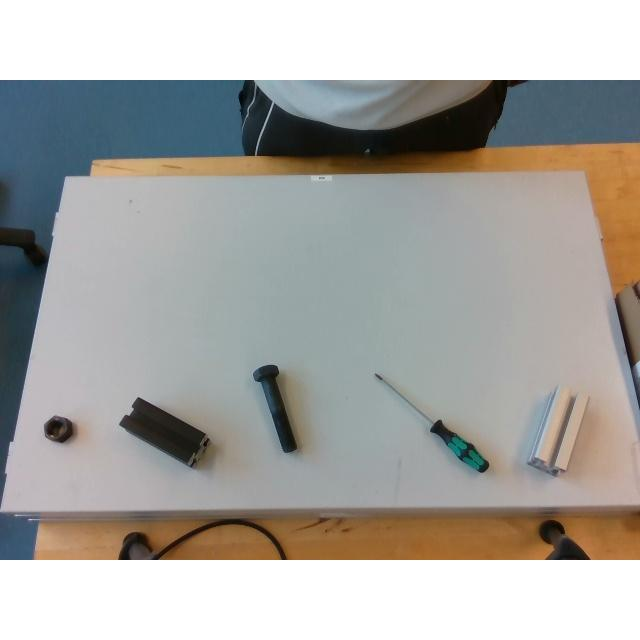M20: (44, 414, 72, 442)
M20_100: (252, 364, 296, 452)
S40_40_B: (119, 398, 209, 467)
S40_40_G: (528, 386, 588, 474)
Screwdriver: (374, 372, 490, 472)
